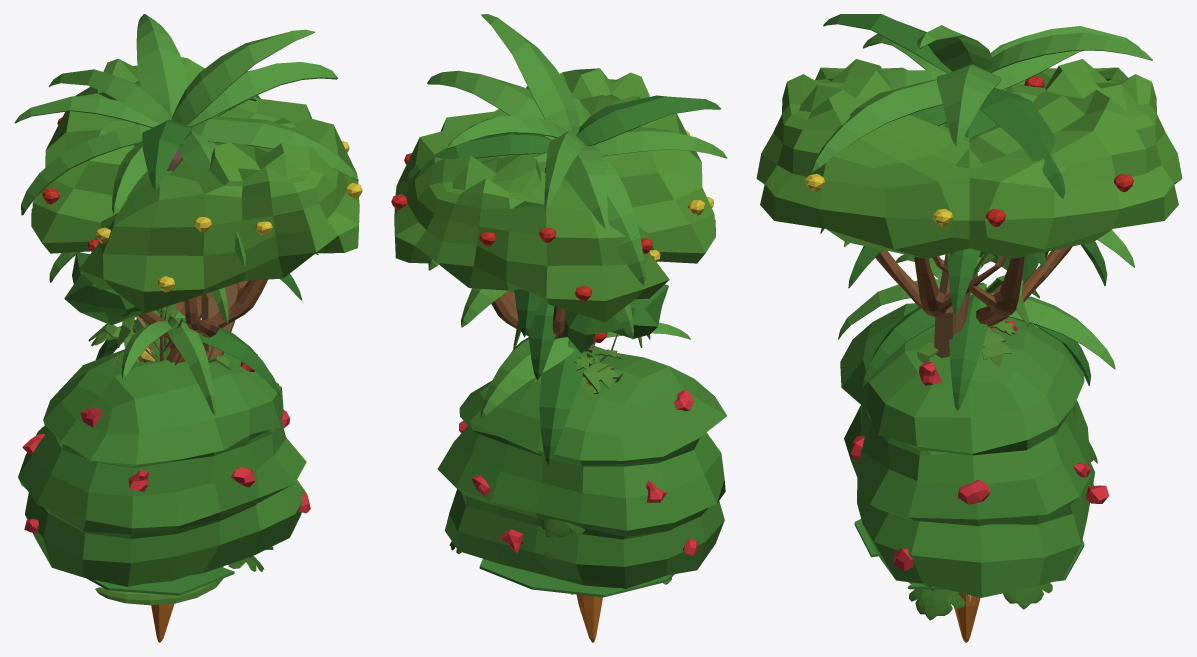
The model's file is plants.glb.
The picture shows the model from 3 angles, left to right: view 1: azimuth 30°, elevation 25°; view 2: azimuth 150°, elevation 25°; view 3: azimuth 270°, elevation 25°; orthographic projection. The views are drawn at different scales.
Parts seen in each view (by area): view 1: Strawberry_4, PalmTree_4, LemonTree, OrangeTreeBare, AppleTreeBare, AppleTree, PalmTree_2, Lilypad, Melon_4, PalmTree_3, Corn_4, Carrot_4; view 2: Strawberry_4, PalmTree_4, AppleTree, AppleTreeBare, OrangeTreeBare, LemonTree, PalmTree_2, PalmTree_3, Lilypad, Tomato_4, Carrot_4, Pumpkin_4 (+1 smaller); view 3: Strawberry_4, PalmTree_4, AppleTreeBare, AppleTree, OrangeTreeBare, LemonTree, PalmTree_2, PalmTree_3, Melon_4, Tomato_4, Corn_4, Carrot_4 (+1 smaller).
Part boxes in pixels (bbox=[...]): Strawberry_4: bbox=[18, 342, 310, 586]; PalmTree_4: bbox=[14, 14, 358, 363]; LemonTree: bbox=[94, 118, 362, 362]; OrangeTreeBare: bbox=[78, 137, 359, 362]; AppleTreeBare: bbox=[31, 57, 312, 352]; AppleTree: bbox=[31, 58, 311, 338]; PalmTree_2: bbox=[95, 302, 280, 415]; Lilypad: bbox=[86, 546, 273, 595]; Melon_4: bbox=[95, 556, 264, 605]; PalmTree_3: bbox=[49, 252, 318, 357]; Corn_4: bbox=[88, 301, 233, 370]; Carrot_4: bbox=[151, 604, 174, 642]; Strawberry_4: bbox=[437, 345, 726, 588]; PalmTree_4: bbox=[404, 14, 727, 337]; AppleTree: bbox=[391, 131, 668, 353]; AppleTreeBare: bbox=[394, 150, 669, 352]; OrangeTreeBare: bbox=[440, 68, 715, 263]; LemonTree: bbox=[441, 68, 715, 261]; PalmTree_2: bbox=[480, 322, 690, 464]; PalmTree_3: bbox=[461, 288, 633, 380]; Lilypad: bbox=[479, 559, 674, 597]; Tomato_4: bbox=[574, 349, 621, 394]; Carrot_4: bbox=[576, 594, 602, 642]; Pumpkin_4: bbox=[541, 519, 584, 537]; Strawberry_4: bbox=[840, 303, 1108, 597]; PalmTree_4: bbox=[811, 14, 1152, 358]; AppleTreeBare: bbox=[933, 59, 1173, 326]; AppleTree: bbox=[935, 63, 1182, 328]; OrangeTreeBare: bbox=[765, 59, 1005, 312]; LemonTree: bbox=[756, 63, 1003, 318]; PalmTree_2: bbox=[838, 254, 1115, 410]; PalmTree_3: bbox=[820, 228, 1134, 333]; Melon_4: bbox=[909, 481, 1093, 620]; Tomato_4: bbox=[972, 252, 1016, 366]; Corn_4: bbox=[917, 275, 1039, 362]; Carrot_4: bbox=[954, 593, 980, 642].
Bounding box in the file's own units: 2.04 × 3.84 × 2.2.
